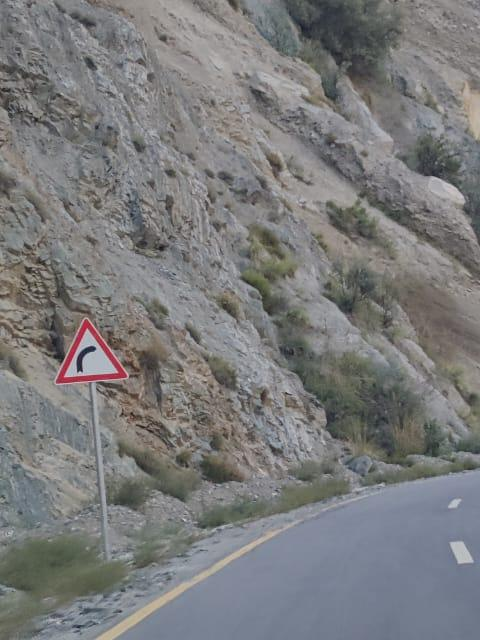right_turn: (244, 426, 480, 608), (55, 314, 130, 388)
